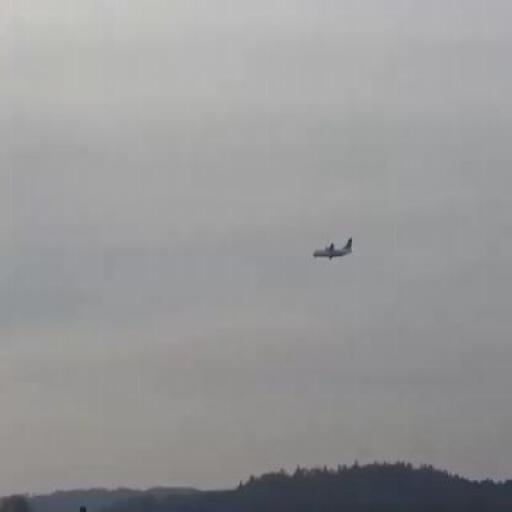aircraft: (311, 238, 352, 264)
